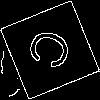C: (25, 25, 82, 77)
